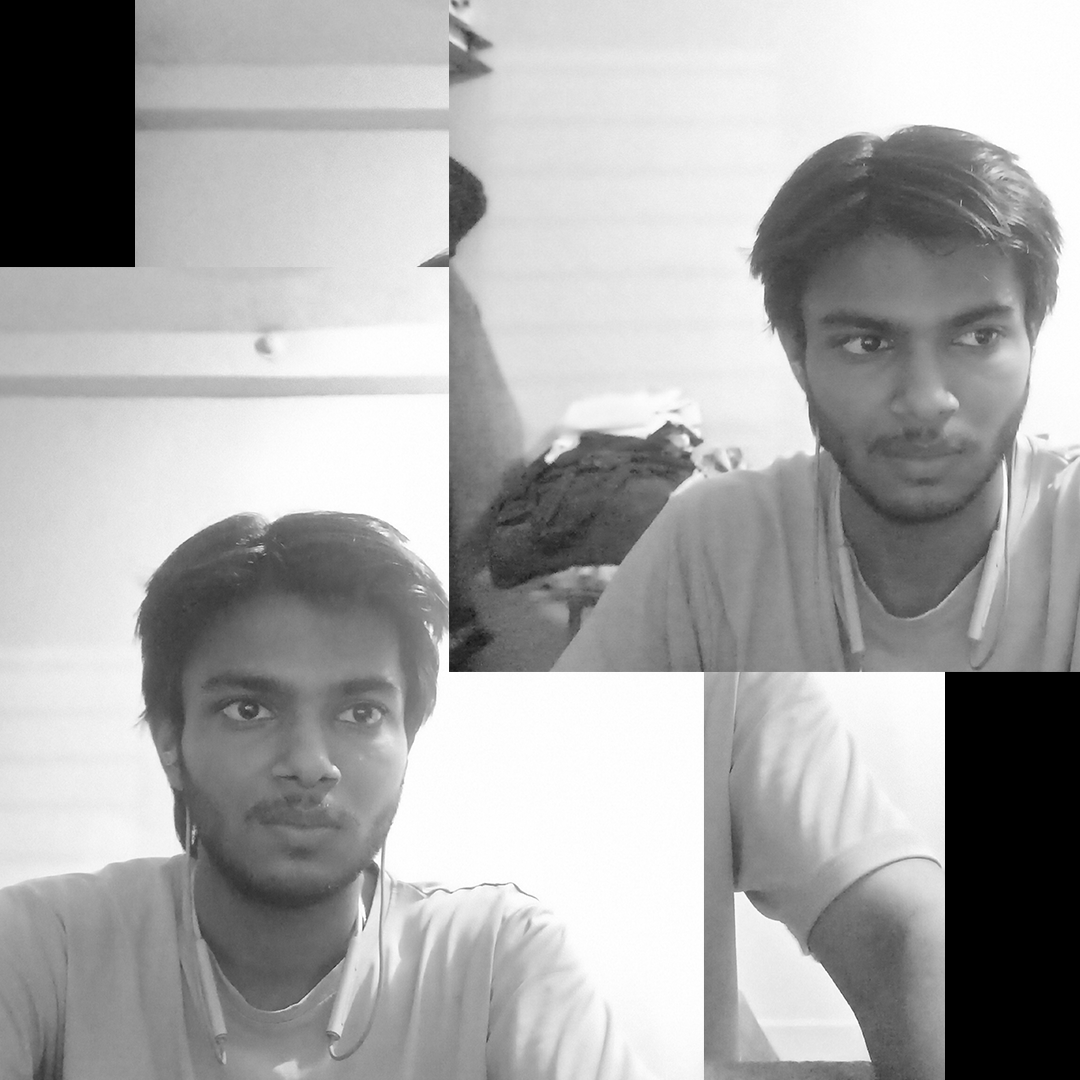Focused: (85, 407, 471, 949), (702, 60, 1080, 597)
